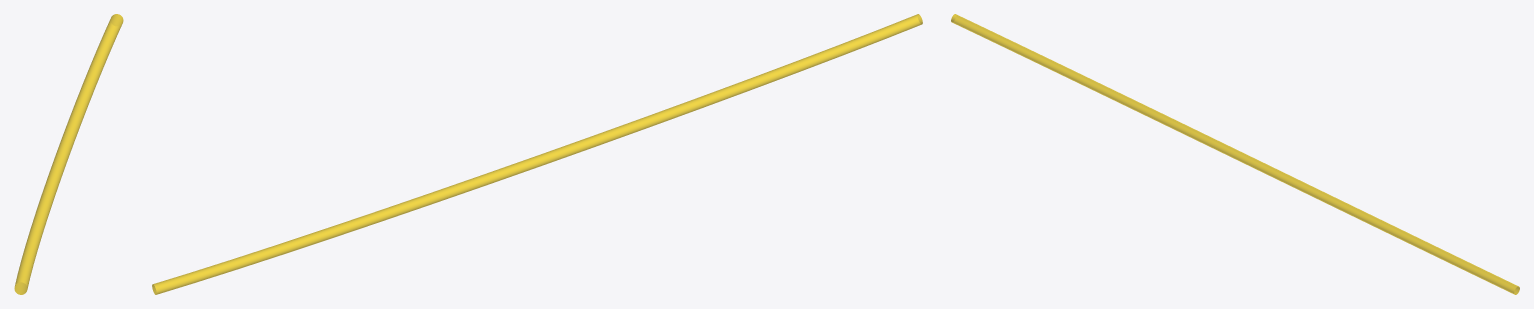
The model's file is Event_402970704_track_37.fbx.
3 views of the same model, side by side, from view 1: azimuth 90°, elevation 25°; view 2: azimuth 210°, elevation 25°; view 3: azimuth 330°, elevation 25° (orthographic). The views are drawn at different scales.
Parts seen in each view (by area): view 1: Model; view 2: Model; view 3: Model.
Part boxes in pixels (<box>): Model: <box>14,14,123,294</box>; Model: <box>152,14,922,294</box>; Model: <box>951,14,1519,294</box>.
Bounding box in the file's own units: 2.99 × 0.5257 × 0.3328.
